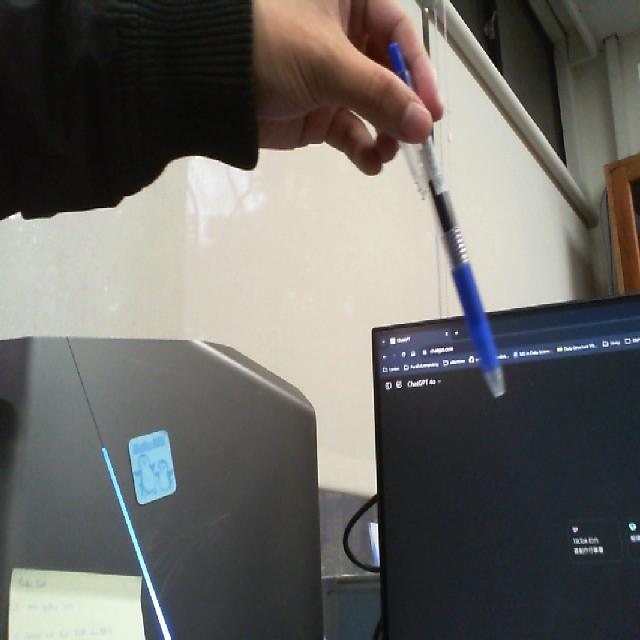Pen: (376, 31, 511, 405)
